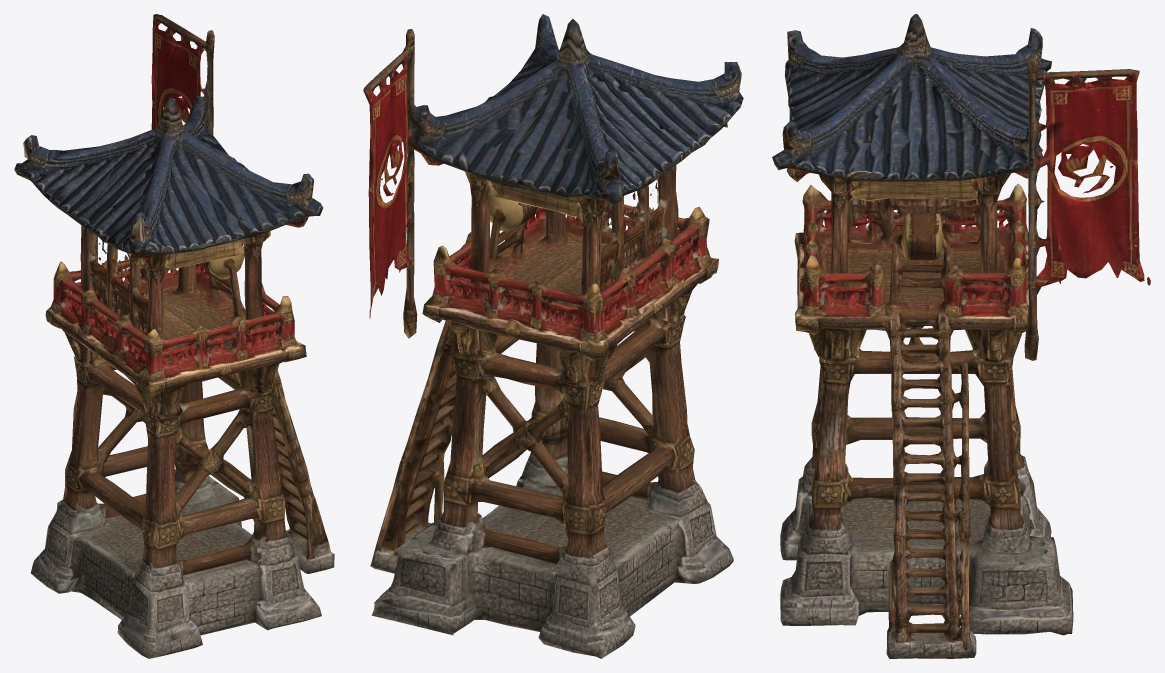
Rendered from torre.glb.
3 renders of one model, left to right at view 1: azimuth 30°, elevation 25°; view 2: azimuth 150°, elevation 25°; view 3: azimuth 270°, elevation 25°, orthographic. The views are drawn at different scales.
Parts seen in each view (by area): view 1: torre; view 2: torre; view 3: torre.
Part boxes in pixels (x1,y1,x2,y2): torre: [14, 14, 334, 658]; torre: [363, 14, 743, 658]; torre: [772, 14, 1150, 658].
Size of the model in its own units: 4.7 by 9 by 5.43.
1 material, 1 textured.
